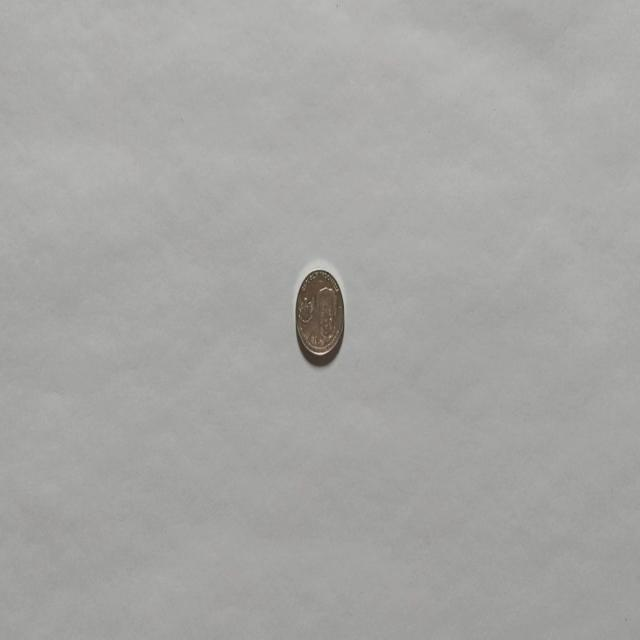seratus rupiah: (294, 266, 344, 364)
